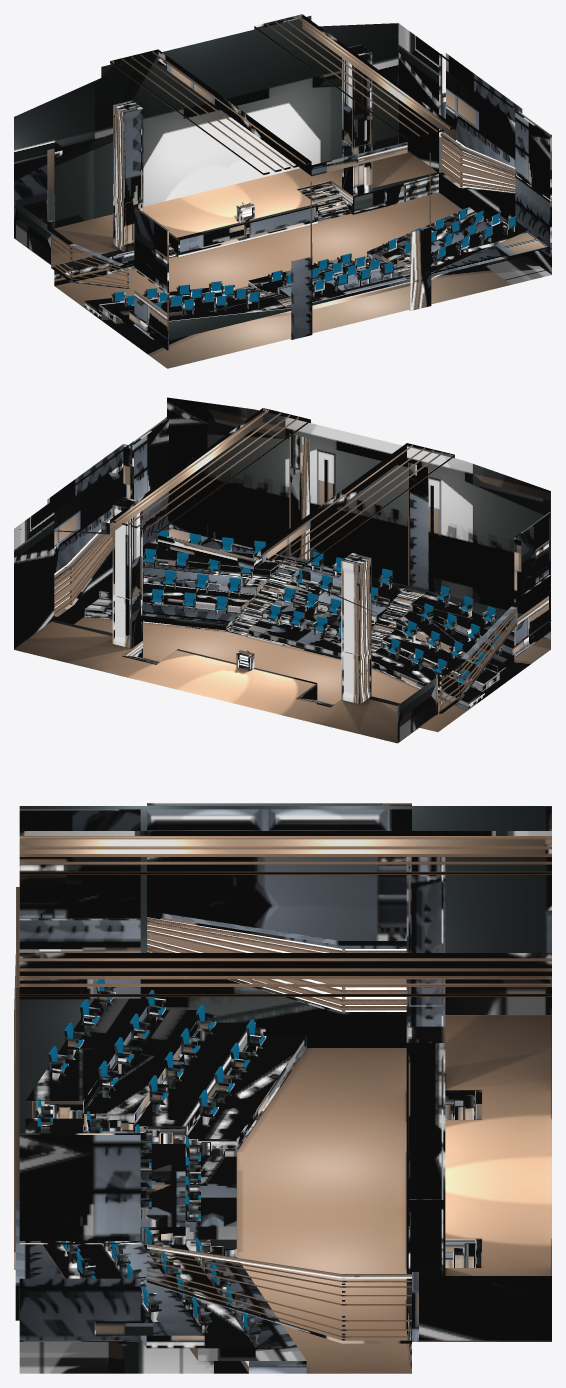
The picture shows the model from 3 angles, top to bottom: view 1: azimuth 30°, elevation 25°; view 2: azimuth 150°, elevation 25°; view 3: azimuth 270°, elevation 25°; orthographic projection. The views are drawn at different scales.
Visible parts, largest first — view 1: BuildingArchitecture.003_0; view 2: BuildingArchitecture.003_0; view 3: BuildingArchitecture.003_0.
Boxes of the visible parts, bbox=[...] form: BuildingArchitecture.003_0: bbox=[14, 14, 551, 368]; BuildingArchitecture.003_0: bbox=[14, 397, 551, 743]; BuildingArchitecture.003_0: bbox=[14, 803, 551, 1373].
Size of the model in its own units: 22.8 by 9.4 by 15.36.
